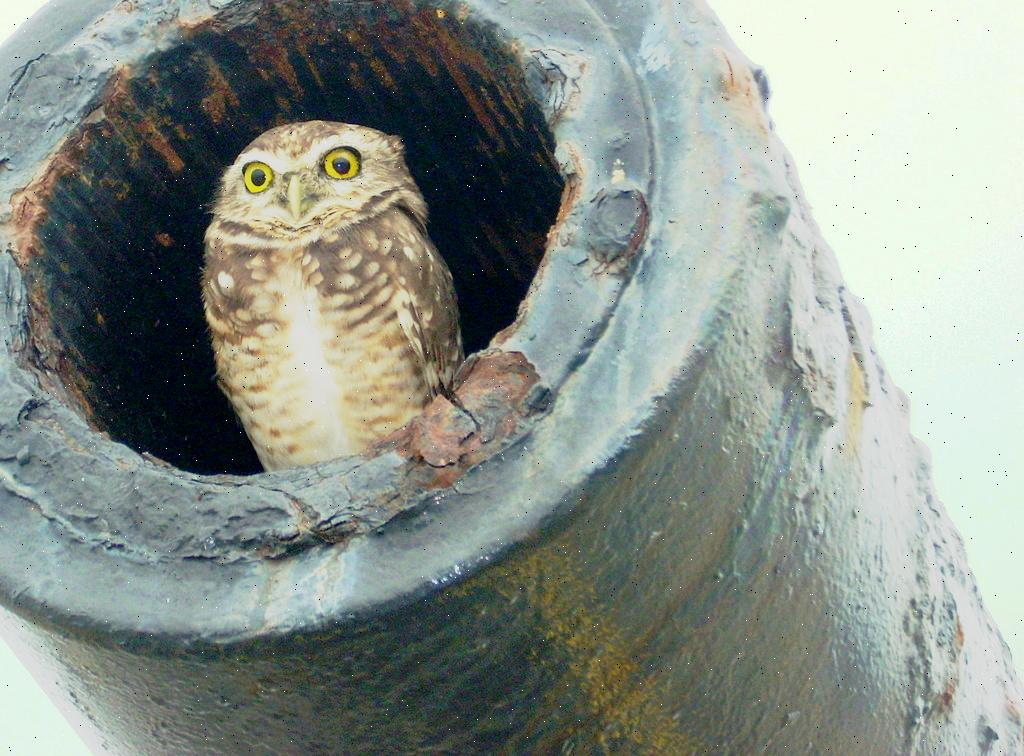Owl: (199, 121, 470, 472)
